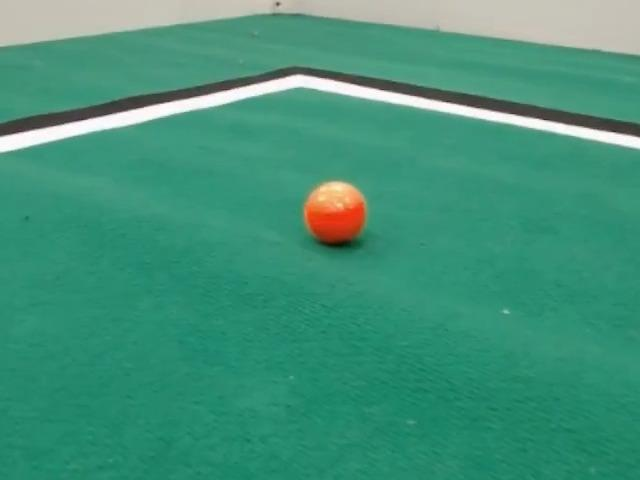Ball: (304, 181, 366, 244)
